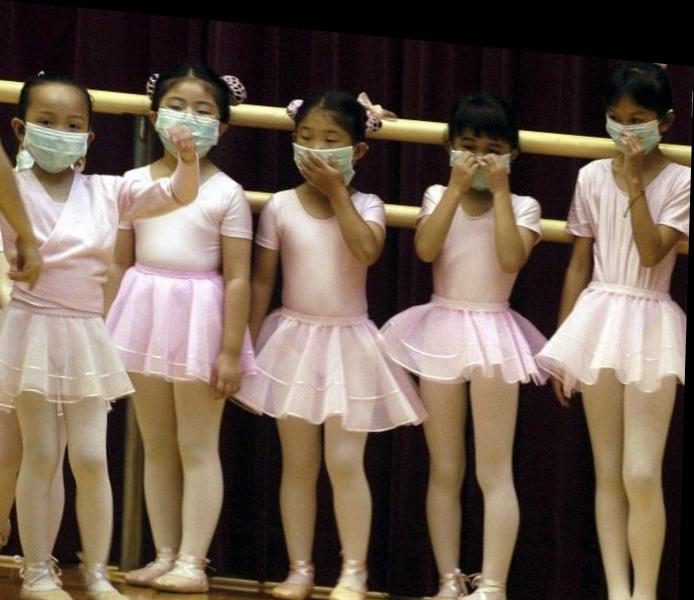OK: (26, 100, 93, 175), (157, 86, 220, 163), (453, 121, 514, 187), (610, 89, 663, 147)
WRONG: (295, 112, 358, 185)
